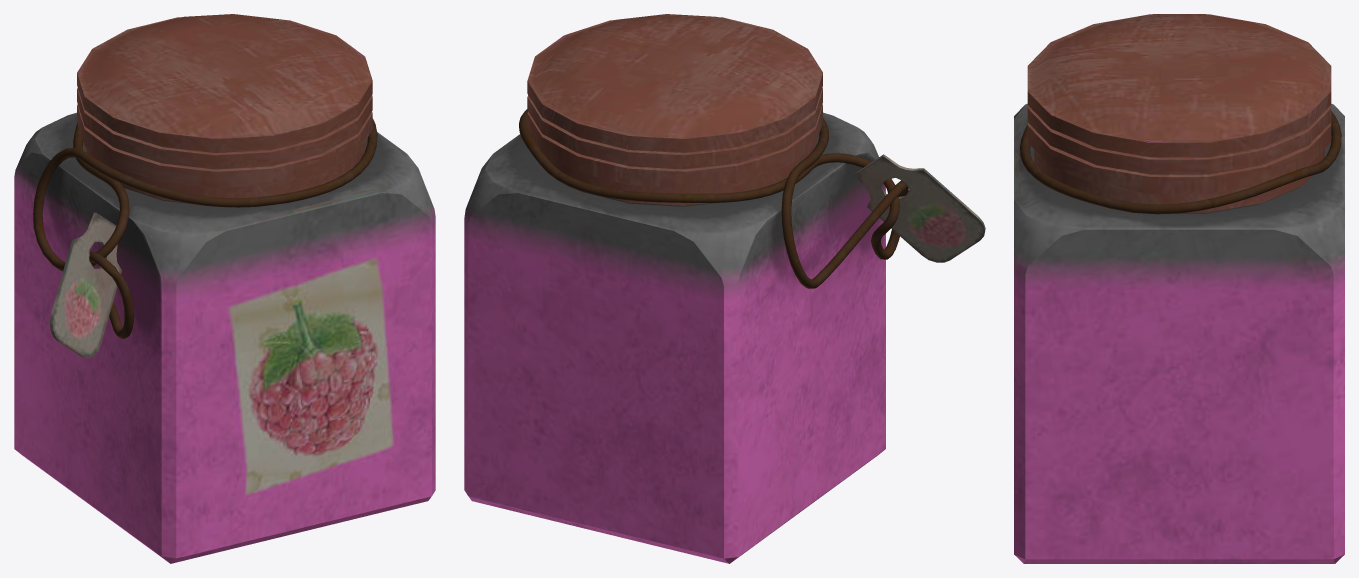
Rendered from jamjar-transformed.glb.
3 views of the same model, side by side, from view 1: azimuth 30°, elevation 25°; view 2: azimuth 150°, elevation 25°; view 3: azimuth 270°, elevation 25° (orthographic). The views are drawn at different scales.
Parts seen in each view (by area): view 1: jam_0; view 2: jam_0; view 3: jam_0.
Boxes of the visible parts, bbox=[...] form: jam_0: bbox=[14, 14, 435, 563]; jam_0: bbox=[464, 14, 985, 563]; jam_0: bbox=[1014, 14, 1344, 563].
Size of the model in its own units: 2.77 by 2.9 by 2.
1 material, 1 textured.
